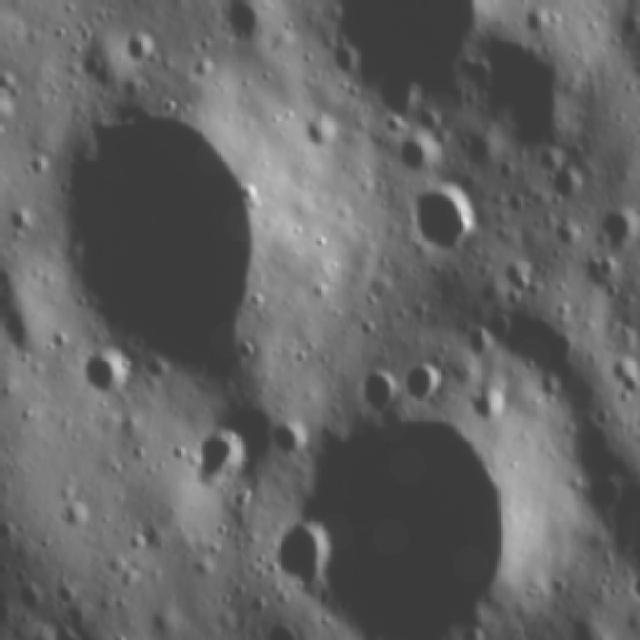crater: (241, 356, 542, 639), (46, 105, 282, 398), (326, 3, 482, 126), (256, 514, 333, 609), (400, 190, 482, 255), (67, 341, 139, 402), (345, 356, 401, 422), (188, 433, 249, 490), (397, 354, 451, 406), (577, 473, 626, 525), (218, 2, 270, 50), (396, 136, 446, 182), (118, 21, 162, 67), (597, 206, 634, 259), (464, 390, 508, 427), (544, 169, 588, 206), (549, 214, 586, 252)
